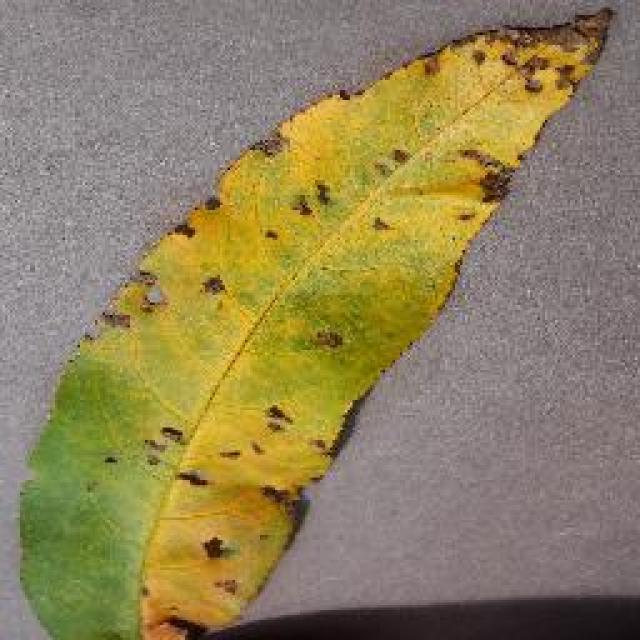Peach_Bacterial_Spot: (208, 102, 392, 595)
